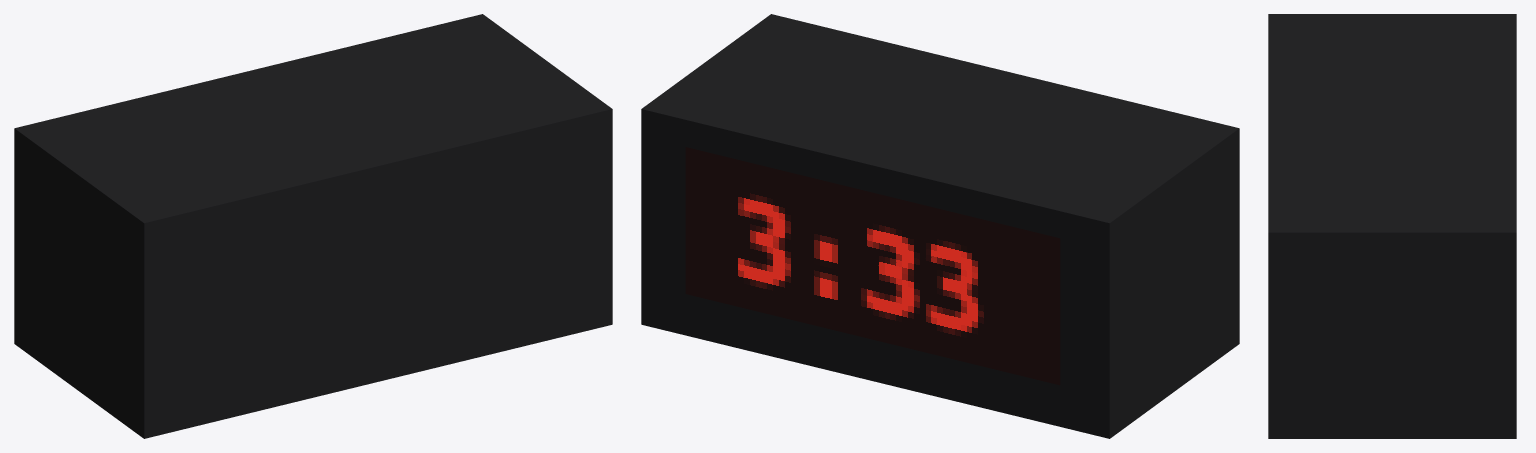
Rendered from alarm-clock-says-333.glb.
3 renders of one model, left to right at view 1: azimuth 30°, elevation 25°; view 2: azimuth 150°, elevation 25°; view 3: azimuth 270°, elevation 25°, orthographic. The views are drawn at different scales.
Bounding box in the file's own units: 0.5 × 0.22 × 0.245.
Materials: 2 (1 with a texture image).
